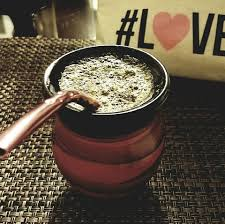guampa: (1, 36, 172, 203)
